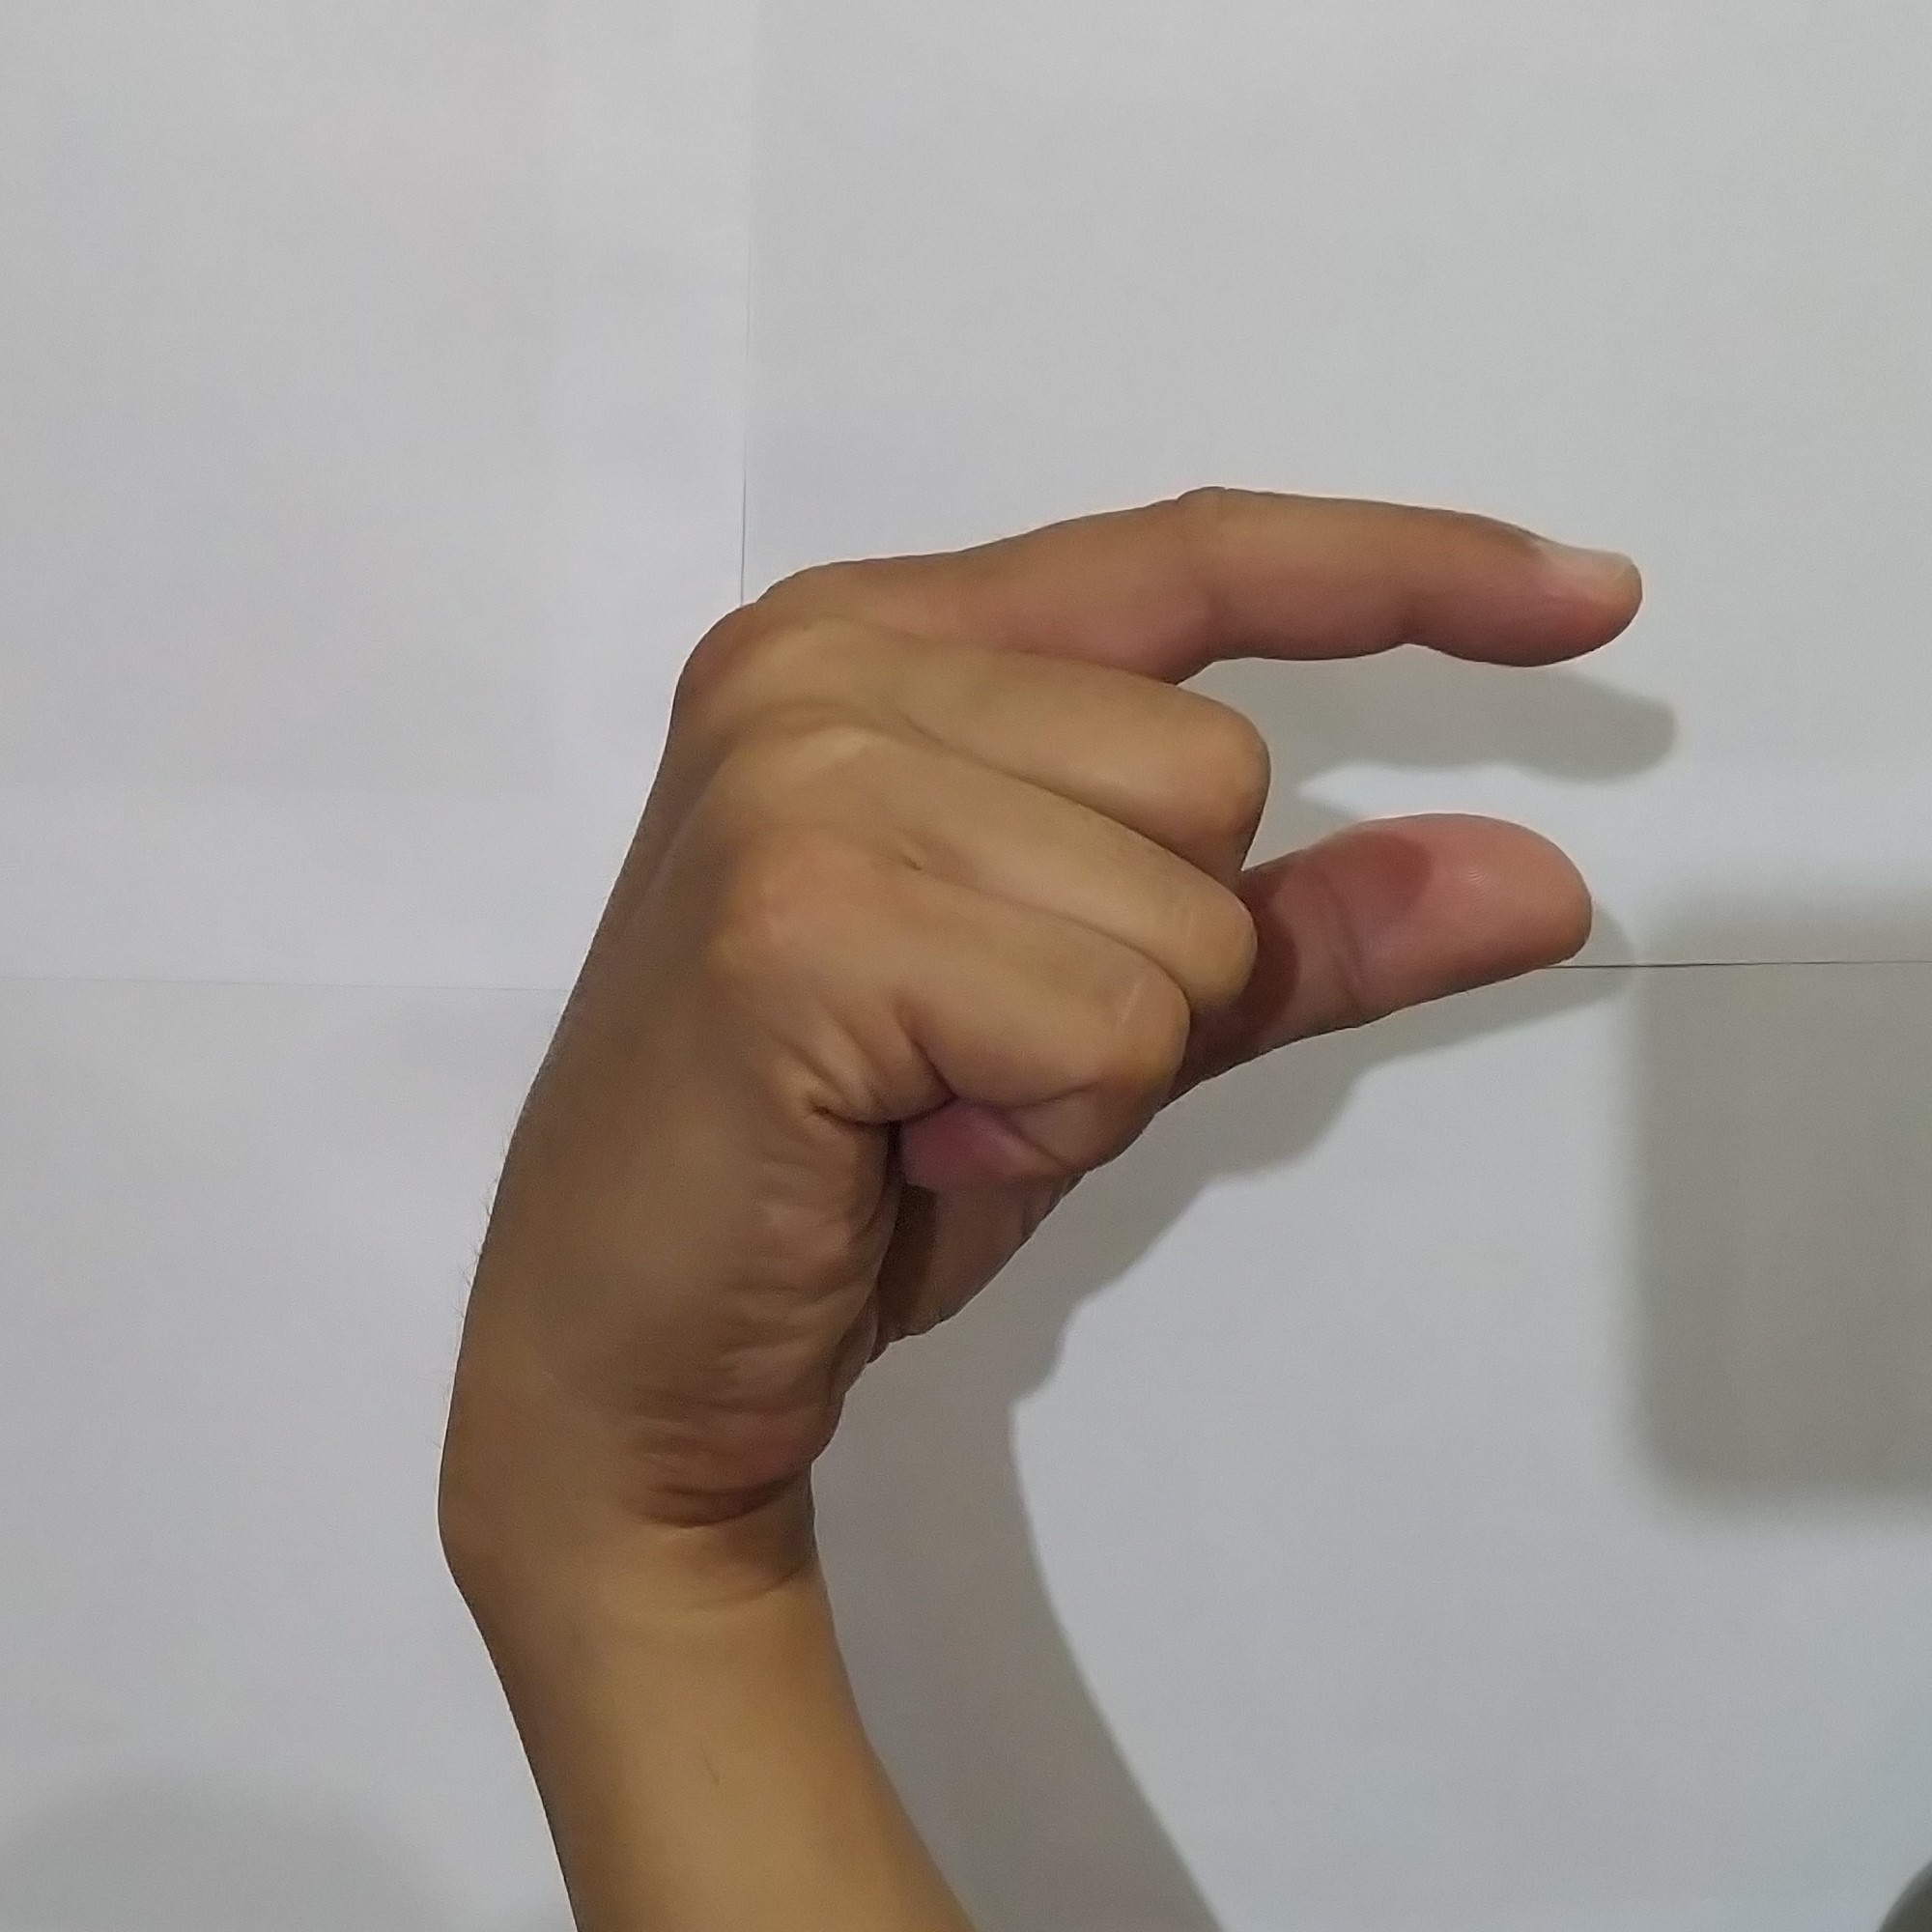G: (442, 464, 1667, 1493)
